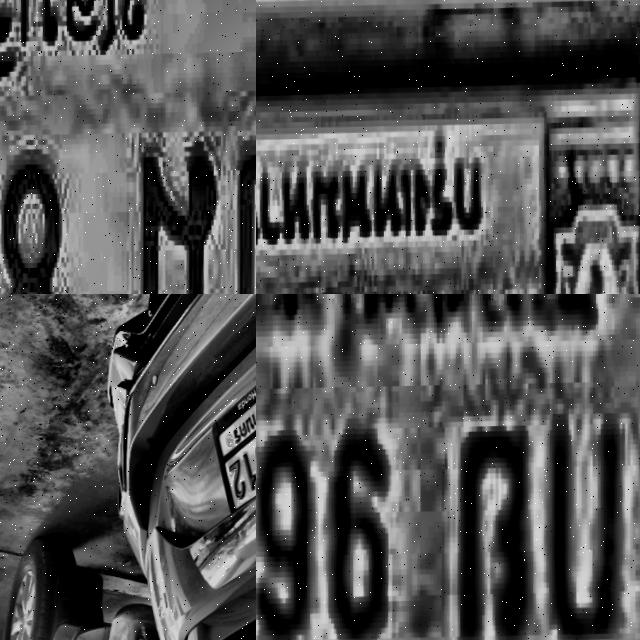license-plate: (256, 294, 640, 640), (256, 32, 640, 294), (0, 0, 256, 294), (205, 312, 256, 525)
